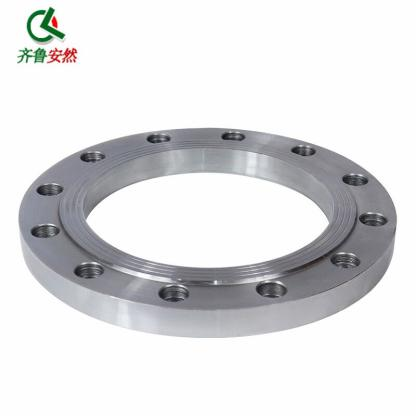FOD: (9, 122, 407, 348)
